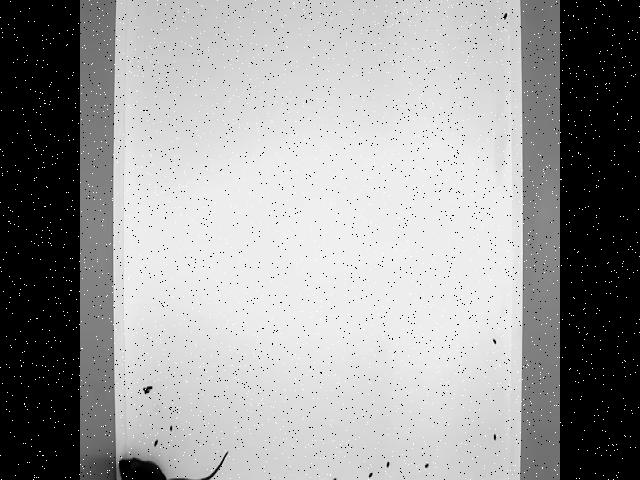Tikus: (116, 447, 232, 480)
